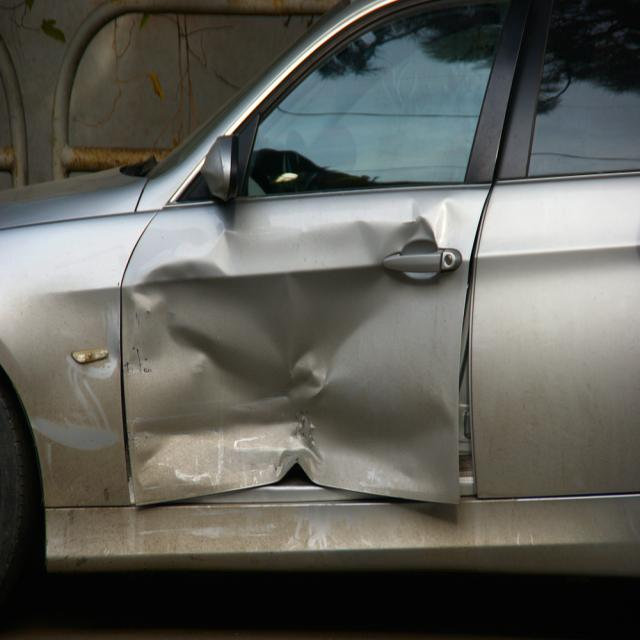Cabossage: (132, 200, 472, 489)
Rayure: (28, 294, 123, 505)
